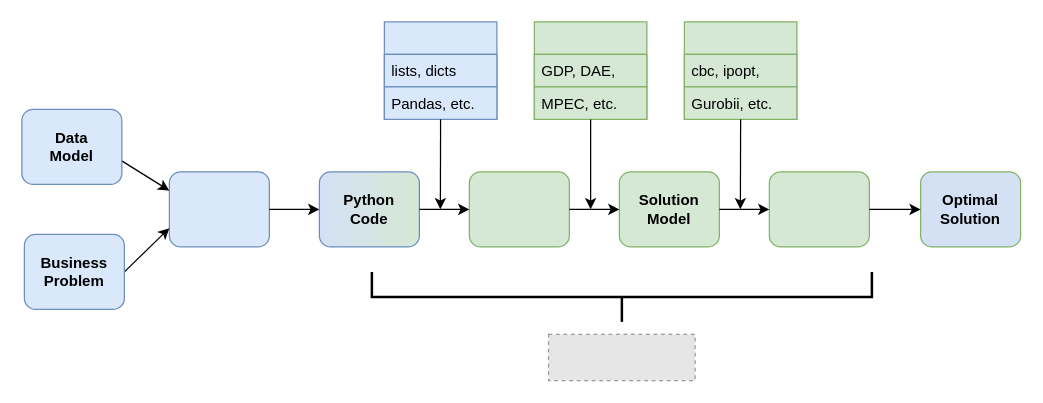
The diagram is 1043 pixels wide and 403 high, and some of its shapes have lost their labels. Grey dashed boxes stand in for pictures. The box of each missing label's shape, as (x1, y1, x2, y2) in pixels:
Concrete Model: (468, 171, 569, 247)
Data: (383, 21, 497, 119)
Mathematical Model: (168, 171, 269, 247)
Solved Model: (768, 171, 869, 247)
Solvers: (683, 21, 797, 119)
Transforms: (533, 21, 647, 119)
